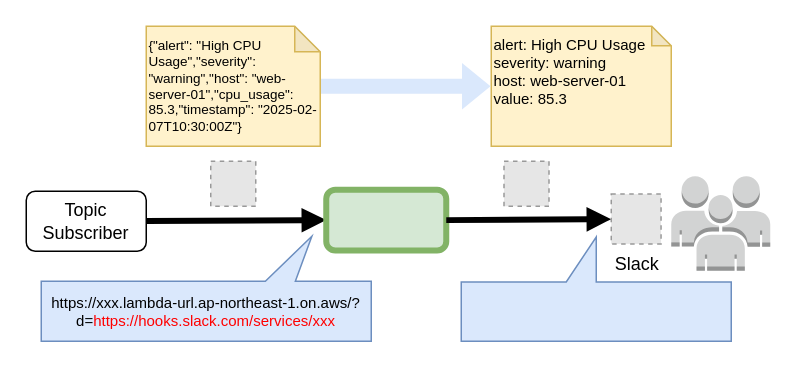
This 797x368 diagram has some shape labels left out. Grey dashed boxes stand in for pictures. The centre of each missing label's shape, as x and y in pixels:
"https://hooks.slack.com/services/xxx" goes at (x=595, y=288).
"webhook relay" goes at (x=385, y=219).
